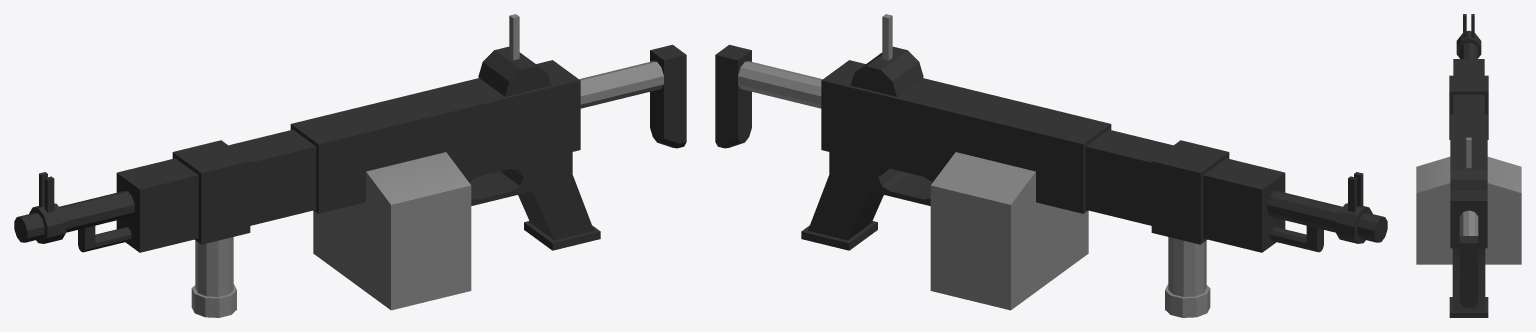
The model's file is LMG.fbx.
3 views of the same model, side by side, from view 1: azimuth 30°, elevation 25°; view 2: azimuth 150°, elevation 25°; view 3: azimuth 270°, elevation 25° (orthographic). The views are drawn at different scales.
Parts seen in each view (by area): view 1: LMG; view 2: LMG; view 3: LMG.
Boxes of the visible parts, x1,y1,x2,y2 form: LMG: [14, 14, 686, 317]; LMG: [715, 14, 1387, 317]; LMG: [1416, 14, 1521, 317].
Size of the model in its own units: 101 by 33.65 by 20.69.
1 material, 1 textured.
